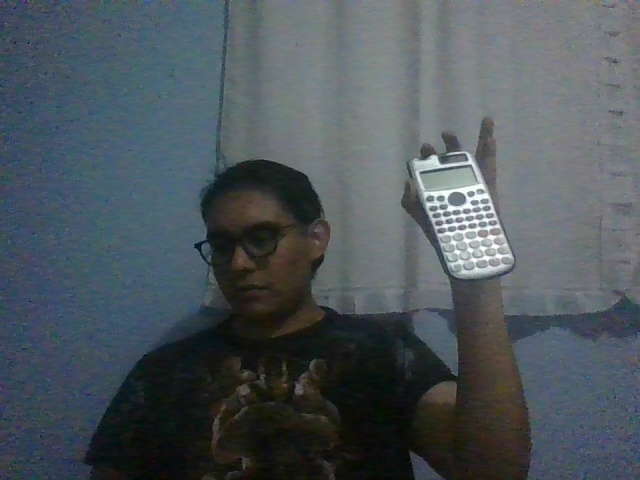calculadora: (406, 151, 517, 282)
